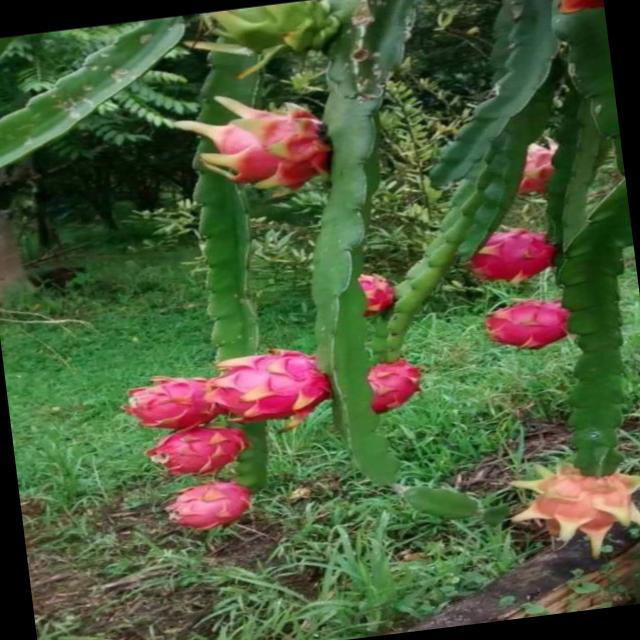Thanh Long: (174, 98, 334, 198), (501, 459, 640, 566), (200, 336, 338, 434), (120, 371, 222, 436), (146, 420, 254, 480), (461, 224, 555, 290), (477, 294, 573, 358), (165, 476, 257, 534), (500, 138, 560, 206), (357, 356, 423, 417), (346, 262, 406, 322), (551, 0, 604, 16)
